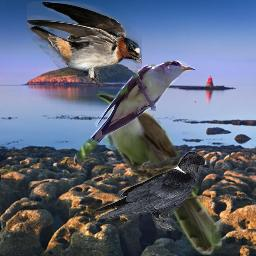Crow: (92, 151, 209, 234)
Cuckoo: (96, 90, 222, 255), (74, 60, 195, 164)
Swallow: (27, 1, 142, 87)
